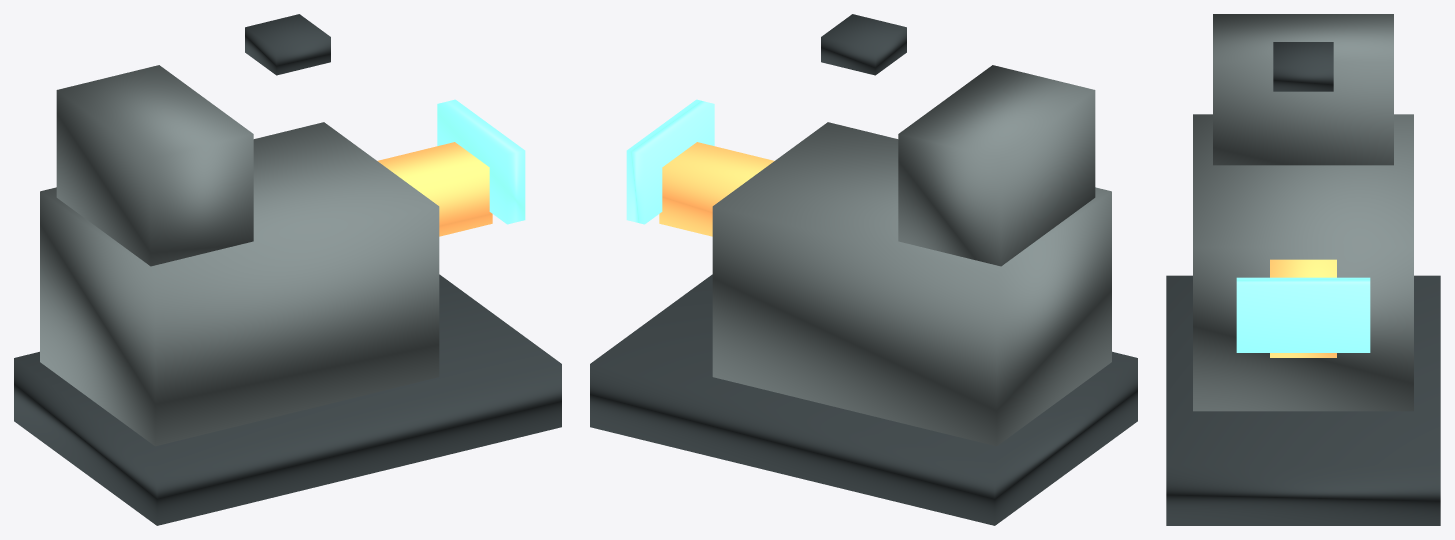
Rendered from jovian-harvester-deck-mass-trim-lod1.glb.
The picture shows the model from 3 angles, left to right: view 1: azimuth 30°, elevation 25°; view 2: azimuth 150°, elevation 25°; view 3: azimuth 270°, elevation 25°; orthographic projection. The views are drawn at different scales.
Parts seen in each view (by area): view 1: jovian-harvester-deck-mass-trim-carriage, jovian-harvester-deck-mass-trim-skid, jovian-harvester-deck-mass-trim-counterweight, jovian-harvester-deck-mass-trim-actuator, jovian-harvester-interactable-status, objective-beacon-mount; view 2: jovian-harvester-deck-mass-trim-carriage, jovian-harvester-deck-mass-trim-skid, jovian-harvester-deck-mass-trim-counterweight, jovian-harvester-deck-mass-trim-actuator, jovian-harvester-interactable-status, objective-beacon-mount; view 3: jovian-harvester-deck-mass-trim-carriage, jovian-harvester-deck-mass-trim-skid, jovian-harvester-deck-mass-trim-counterweight, jovian-harvester-interactable-status, objective-beacon-mount, jovian-harvester-deck-mass-trim-actuator.
Boxes of the visible parts, x1=… form: jovian-harvester-deck-mass-trim-carriage: x1=40, y1=122, x2=439, y2=446; jovian-harvester-deck-mass-trim-skid: x1=14, y1=274, x2=561, y2=525; jovian-harvester-deck-mass-trim-counterweight: x1=56, y1=65, x2=253, y2=266; jovian-harvester-deck-mass-trim-actuator: x1=377, y1=142, x2=492, y2=236; jovian-harvester-interactable-status: x1=437, y1=99, x2=525, y2=224; objective-beacon-mount: x1=245, y1=14, x2=330, y2=75; jovian-harvester-deck-mass-trim-carriage: x1=712, y1=122, x2=1111, y2=446; jovian-harvester-deck-mass-trim-skid: x1=590, y1=274, x2=1137, y2=525; jovian-harvester-deck-mass-trim-counterweight: x1=898, y1=65, x2=1095, y2=266; jovian-harvester-deck-mass-trim-actuator: x1=659, y1=142, x2=774, y2=236; jovian-harvester-interactable-status: x1=626, y1=99, x2=714, y2=224; objective-beacon-mount: x1=821, y1=14, x2=906, y2=75; jovian-harvester-deck-mass-trim-carriage: x1=1193, y1=114, x2=1413, y2=411; jovian-harvester-deck-mass-trim-skid: x1=1166, y1=275, x2=1440, y2=525; jovian-harvester-deck-mass-trim-counterweight: x1=1213, y1=14, x2=1393, y2=165; jovian-harvester-interactable-status: x1=1236, y1=277, x2=1370, y2=352; objective-beacon-mount: x1=1273, y1=42, x2=1333, y2=91; jovian-harvester-deck-mass-trim-actuator: x1=1270, y1=259, x2=1336, y2=357.
Bounding box in the file's own units: 1.34 × 1.24 × 0.82.
